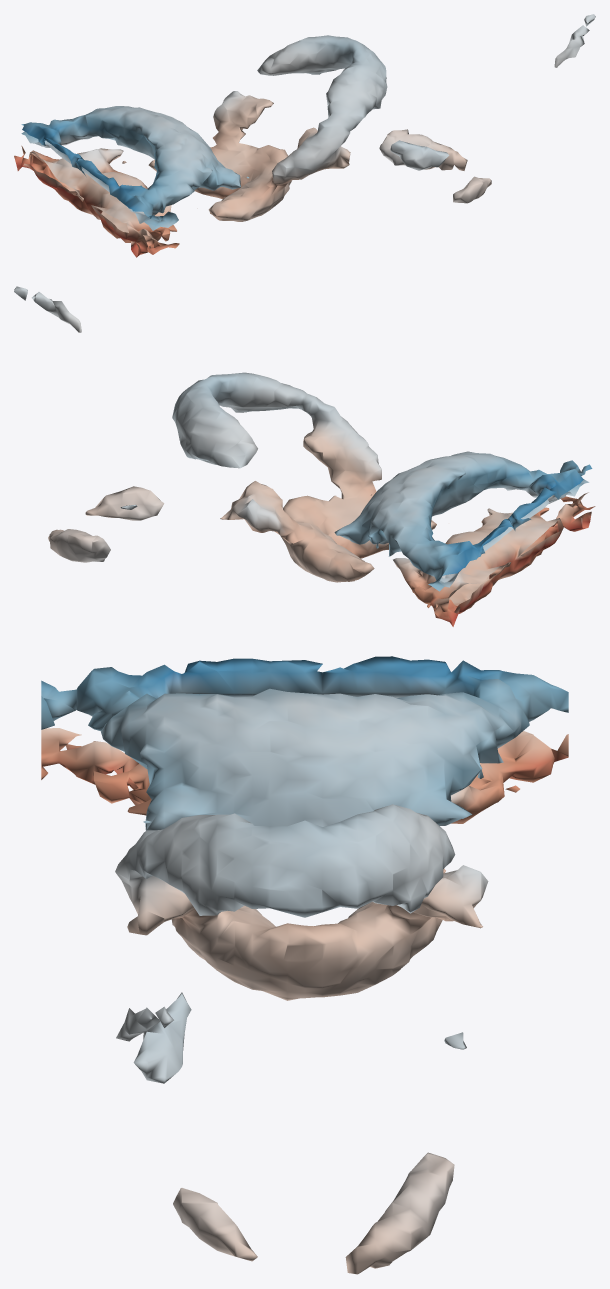
3 renders of one model, top to bottom at view 1: azimuth 30°, elevation 25°; view 2: azimuth 150°, elevation 25°; view 3: azimuth 270°, elevation 25°, orthographic. The views are drawn at different scales.
Size of the model in its own units: 5.29 by 1.8 by 2.5.
